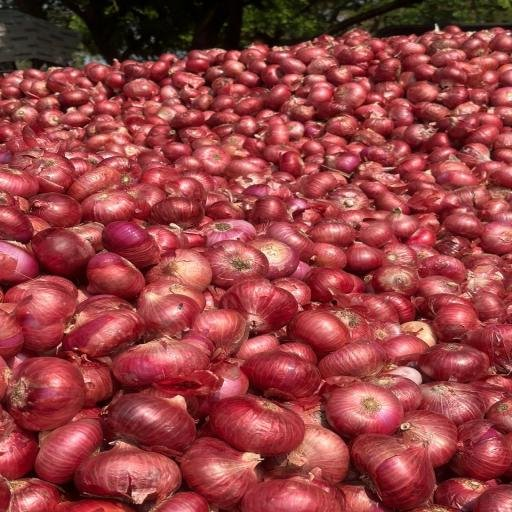healthy: (351, 431, 437, 508), (3, 356, 87, 431), (2, 278, 79, 355), (208, 401, 307, 458), (98, 394, 195, 450), (66, 291, 147, 356), (322, 380, 406, 436), (243, 348, 324, 400), (238, 477, 342, 512), (189, 302, 249, 359), (138, 273, 192, 336), (456, 421, 512, 481), (34, 229, 96, 282), (417, 342, 493, 382), (319, 338, 383, 385), (207, 238, 269, 286), (83, 251, 145, 299), (420, 383, 490, 424), (289, 308, 353, 352), (425, 301, 480, 343), (64, 167, 126, 200), (302, 267, 355, 304), (30, 153, 78, 191), (81, 194, 140, 224), (148, 195, 208, 224), (136, 494, 222, 512), (0, 202, 36, 244), (246, 199, 300, 227), (0, 162, 39, 198), (293, 168, 338, 198), (312, 221, 356, 251), (355, 215, 394, 247), (478, 221, 512, 254), (447, 212, 486, 240), (385, 206, 419, 236), (194, 146, 228, 175), (328, 114, 364, 140), (441, 170, 484, 190), (143, 124, 179, 147), (273, 152, 306, 177), (334, 81, 366, 106), (124, 79, 157, 102), (59, 86, 92, 109), (464, 124, 496, 147), (255, 125, 290, 144), (172, 110, 206, 129), (185, 57, 211, 75)
